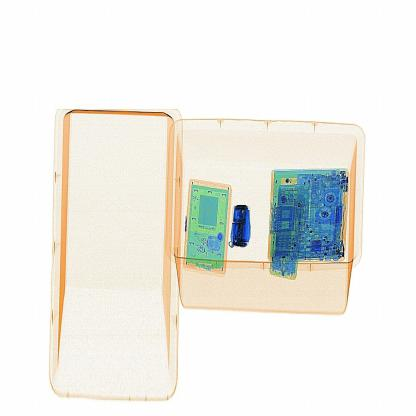scissors: (226, 199, 262, 252)
